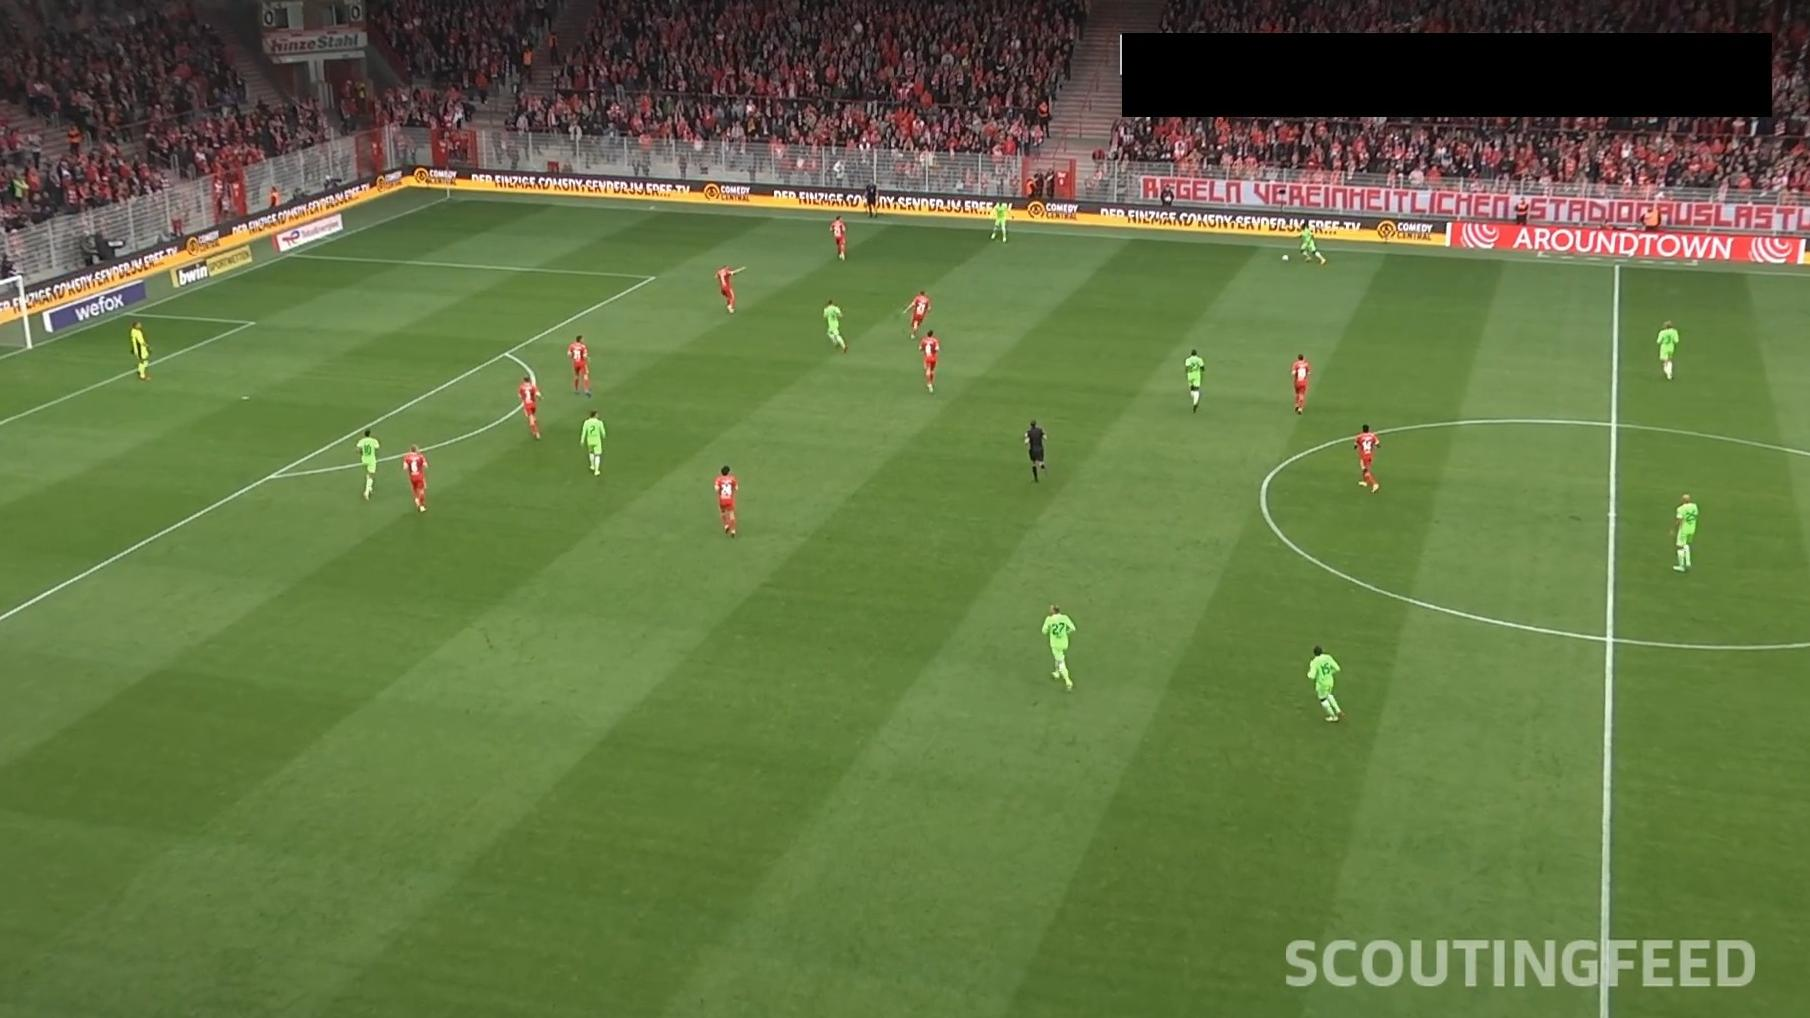ball: (1280, 254, 1292, 264)
